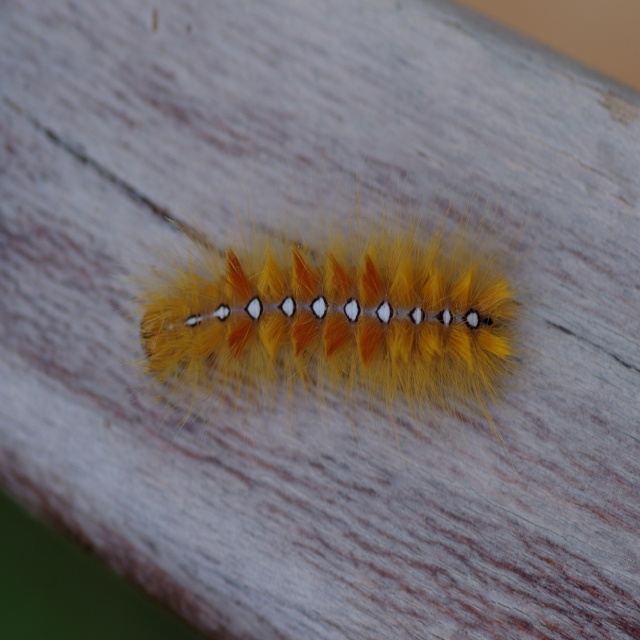Caterpillar: (95, 160, 542, 439)
